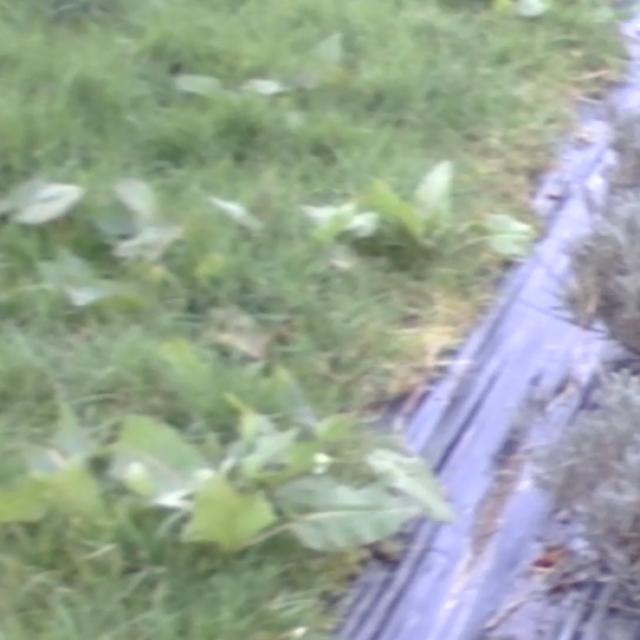organic waste: (0, 395, 486, 582), (0, 135, 235, 285), (314, 153, 520, 280), (161, 12, 358, 122)
